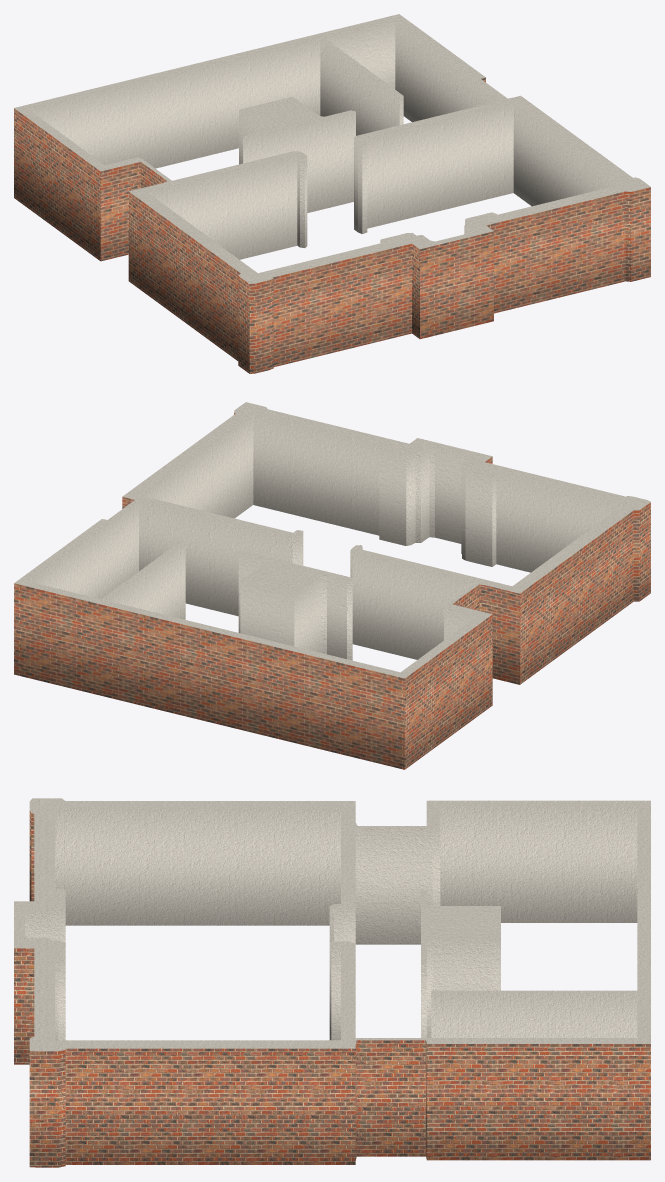
File: GroundFloor.gltf
The picture shows the model from 3 angles, top to bottom: view 1: azimuth 30°, elevation 25°; view 2: azimuth 150°, elevation 25°; view 3: azimuth 270°, elevation 25°; orthographic projection. The views are drawn at different scales.
Parts seen in each view (by area): view 1: GroundFloor; view 2: GroundFloor; view 3: GroundFloor.
Part boxes in pixels (box(x1,y1,x2,y2)): GroundFloor: box(14, 14, 650, 373); GroundFloor: box(14, 402, 650, 769); GroundFloor: box(14, 798, 650, 1167).
Bounding box in the file's own units: 15.14 × 3.25 × 16.13.
Materials: 2 (2 with a texture image).
